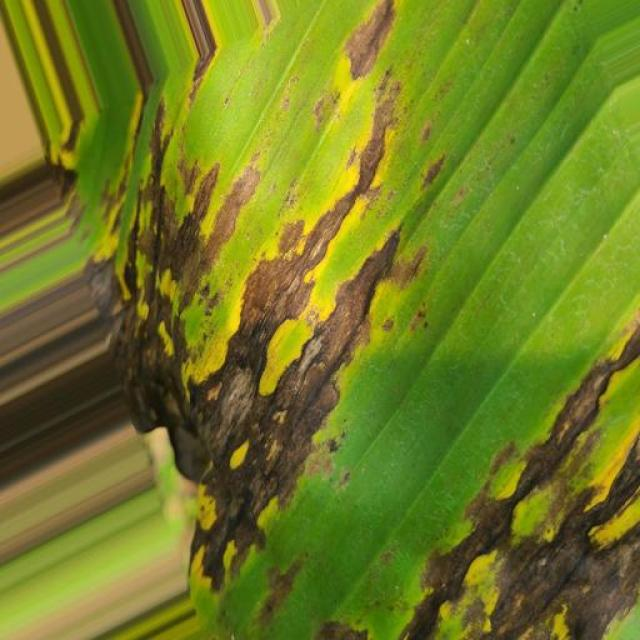Early_rust: (45, 19, 640, 640)
